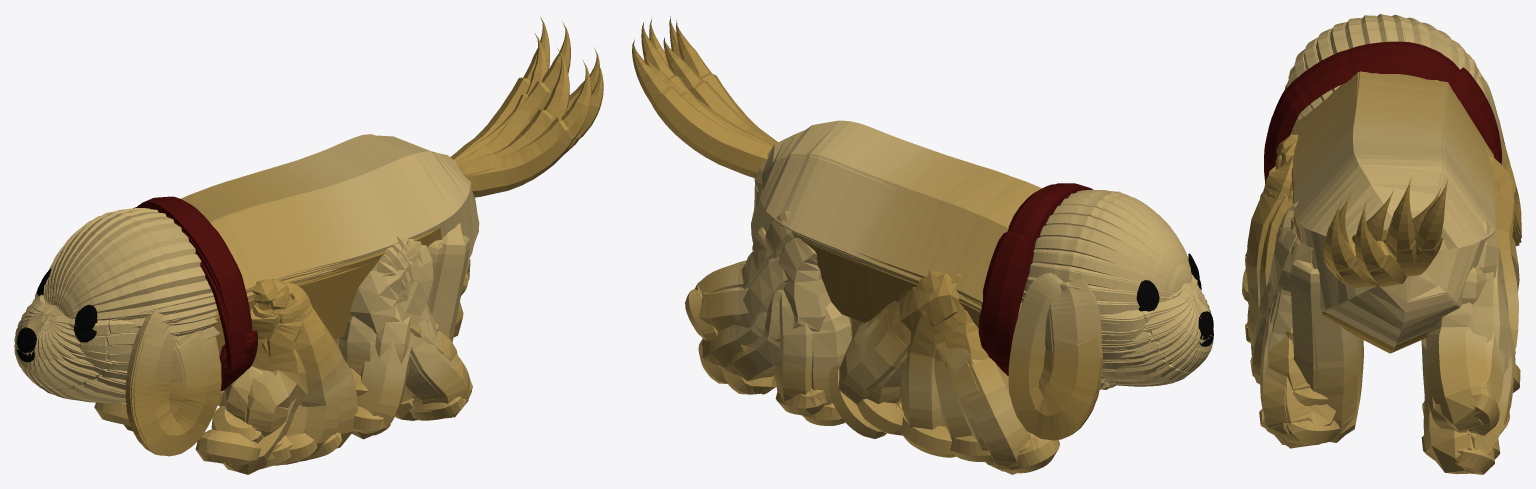
File: Dogwalk.fbx
The picture shows the model from 3 angles, left to right: view 1: azimuth 30°, elevation 25°; view 2: azimuth 150°, elevation 25°; view 3: azimuth 270°, elevation 25°; orthographic projection. The views are drawn at different scales.
Visible parts, largest first — view 1: Dogwalk; view 2: Dogwalk; view 3: Dogwalk.
Boxes of the visible parts, x1,y1,x2,y2 form: Dogwalk: [14, 17, 603, 474]; Dogwalk: [632, 16, 1213, 474]; Dogwalk: [1242, 14, 1521, 474].
Size of the model in its own units: 2.59 by 1.46 by 0.9654.
